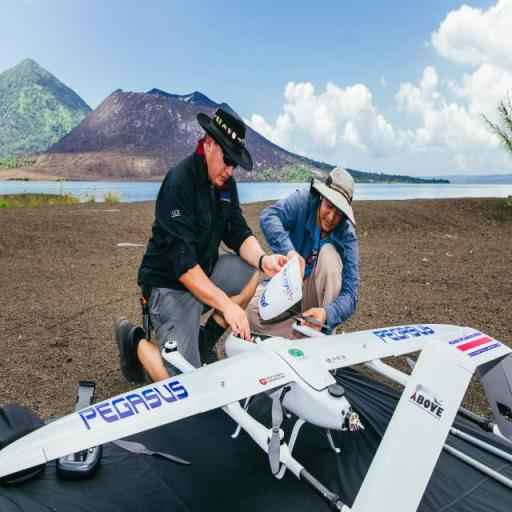uav: (4, 314, 494, 474)
